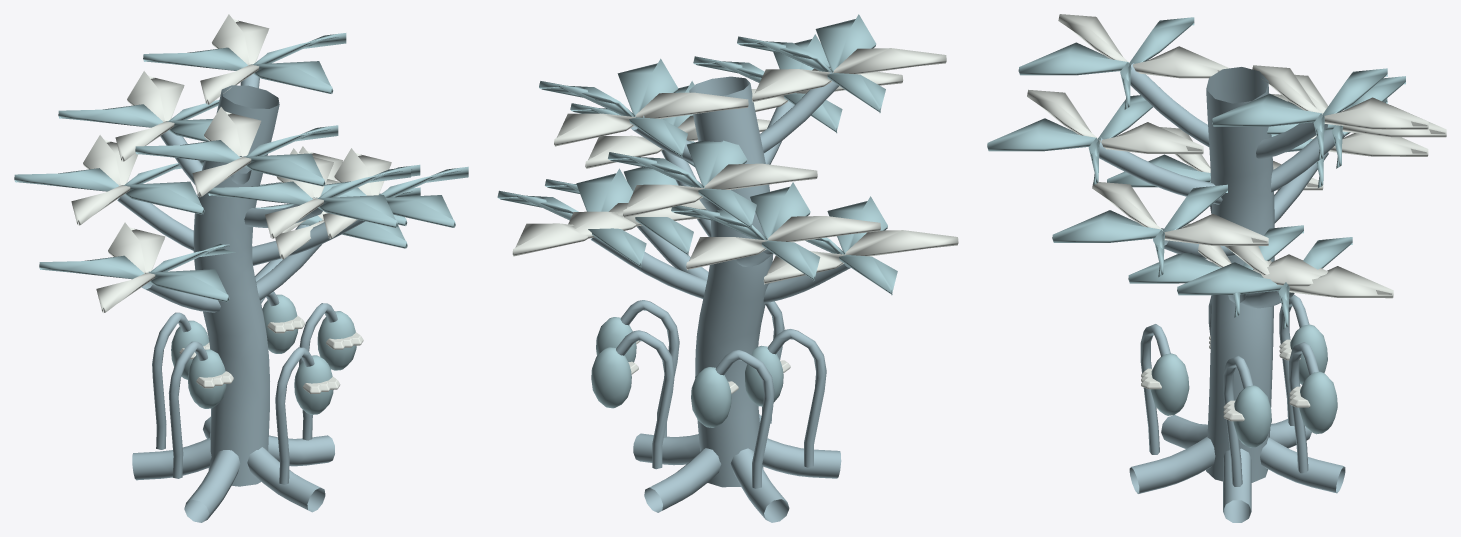
Rendered from bio_canopy_tree_18_far.glb.
3 views of the same model, side by side, from view 1: azimuth 30°, elevation 25°; view 2: azimuth 150°, elevation 25°; view 3: azimuth 270°, elevation 25° (orthographic). The views are drawn at different scales.
Parts seen in each view (by area): view 1: Buttressed trunk, Broad canopy leaf.035, Broad canopy leaf.015, Broad canopy leaf.010, Broad canopy leaf.020, Broad canopy leaf.005, Broad canopy leaf.021, Broad canopy leaf.036, Broad canopy leaf.025, Broad canopy leaf.030, Broad canopy leaf.031, Broad canopy leaf.016 (+14 smaller); view 2: Buttressed trunk, Broad canopy leaf.035, Broad canopy leaf.015, Broad canopy leaf.005, Broad canopy leaf.030, Broad canopy leaf.016, Broad canopy leaf.031, Broad canopy leaf.036, Broad canopy leaf.006, Broad canopy leaf.040, Broad canopy leaf.021, Broad canopy leaf.020 (+15 smaller); view 3: Buttressed trunk, Broad canopy leaf.035, Broad canopy leaf.015, Broad canopy leaf.025, Broad canopy leaf.010, Broad canopy leaf.011, Broad canopy leaf.026, Broad canopy leaf.040, Broad canopy leaf.016, Broad canopy leaf.036, Broad canopy leaf, Broad canopy leaf.041 (+14 smaller).
Boxes of the visible parts, x1=… form: Buttressed trunk: x1=117, y1=74, x2=365, y2=522; Broad canopy leaf.035: x1=135, y1=125, x2=338, y2=186; Broad canopy leaf.015: x1=143, y1=33, x2=346, y2=93; Broad canopy leaf.010: x1=208, y1=166, x2=410, y2=227; Broad canopy leaf.020: x1=39, y1=243, x2=235, y2=302; Broad canopy leaf.005: x1=14, y1=160, x2=204, y2=214; Broad canopy leaf.021: x1=96, y1=222, x2=165, y2=312; Broad canopy leaf.036: x1=192, y1=107, x2=261, y2=197; Broad canopy leaf.025: x1=321, y1=166, x2=468, y2=227; Broad canopy leaf.030: x1=58, y1=100, x2=219, y2=141; Broad canopy leaf.031: x1=115, y1=71, x2=184, y2=161; Broad canopy leaf.016: x1=200, y1=14, x2=269, y2=104; Buttressed trunk: x1=590, y1=71, x2=850, y2=522; Broad canopy leaf.035: x1=737, y1=14, x2=885, y2=112; Broad canopy leaf.015: x1=539, y1=58, x2=687, y2=157; Broad canopy leaf.005: x1=671, y1=182, x2=820, y2=281; Broad canopy leaf.030: x1=608, y1=140, x2=756, y2=228; Broad canopy leaf.016: x1=554, y1=92, x2=748, y2=146; Broad canopy leaf.031: x1=623, y1=163, x2=817, y2=217; Broad canopy leaf.036: x1=752, y1=48, x2=946, y2=101; Broad canopy leaf.006: x1=686, y1=216, x2=880, y2=269; Broad canopy leaf.040: x1=497, y1=168, x2=646, y2=267; Broad canopy leaf.021: x1=763, y1=230, x2=958, y2=284; Broad canopy leaf.020: x1=805, y1=196, x2=897, y2=295; Buttressed trunk: x1=1099, y1=63, x2=1345, y2=522; Broad canopy leaf.035: x1=1018, y1=17, x2=1194, y2=109; Broad canopy leaf.015: x1=1212, y1=68, x2=1387, y2=160; Broad canopy leaf.025: x1=1052, y1=184, x2=1227, y2=277; Broad canopy leaf.010: x1=987, y1=95, x2=1152, y2=185; Broad canopy leaf.011: x1=1027, y1=89, x2=1203, y2=154; Broad canopy leaf.026: x1=1092, y1=182, x2=1268, y2=245; Broad canopy leaf.040: x1=1177, y1=237, x2=1352, y2=329; Broad canopy leaf.016: x1=1252, y1=65, x2=1428, y2=129; Broad canopy leaf.036: x1=1058, y1=14, x2=1229, y2=78; Broad canopy leaf: x1=1128, y1=225, x2=1303, y2=317; Broad canopy leaf.041: x1=1225, y1=246, x2=1393, y2=298.
Bounding box in the file's own units: 3.06 × 2.99 × 3.05.
